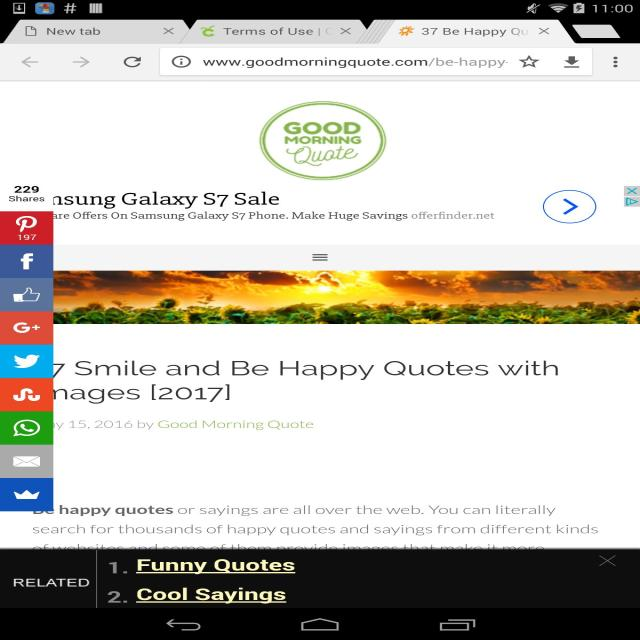button: (373, 20, 561, 45), (13, 19, 189, 44), (197, 20, 366, 45), (3, 410, 54, 446), (0, 243, 52, 278), (1, 446, 56, 479), (1, 344, 54, 378), (0, 280, 54, 312), (0, 378, 54, 410), (0, 312, 53, 343), (1, 480, 53, 509), (0, 214, 53, 241), (586, 548, 634, 573), (597, 49, 634, 74), (108, 54, 154, 74), (60, 52, 94, 73), (554, 55, 592, 73), (334, 25, 359, 39), (535, 25, 558, 38), (158, 24, 182, 36)
heading: (58, 358, 566, 406)
iframe: (0, 180, 640, 237)
image: (54, 271, 640, 324), (247, 98, 409, 180)
link: (127, 583, 300, 608), (131, 556, 303, 577), (152, 416, 320, 435)
text: (13, 502, 630, 549), (54, 413, 323, 436), (200, 58, 511, 70), (422, 25, 530, 39), (220, 27, 324, 38), (15, 578, 91, 590), (44, 26, 102, 37)
